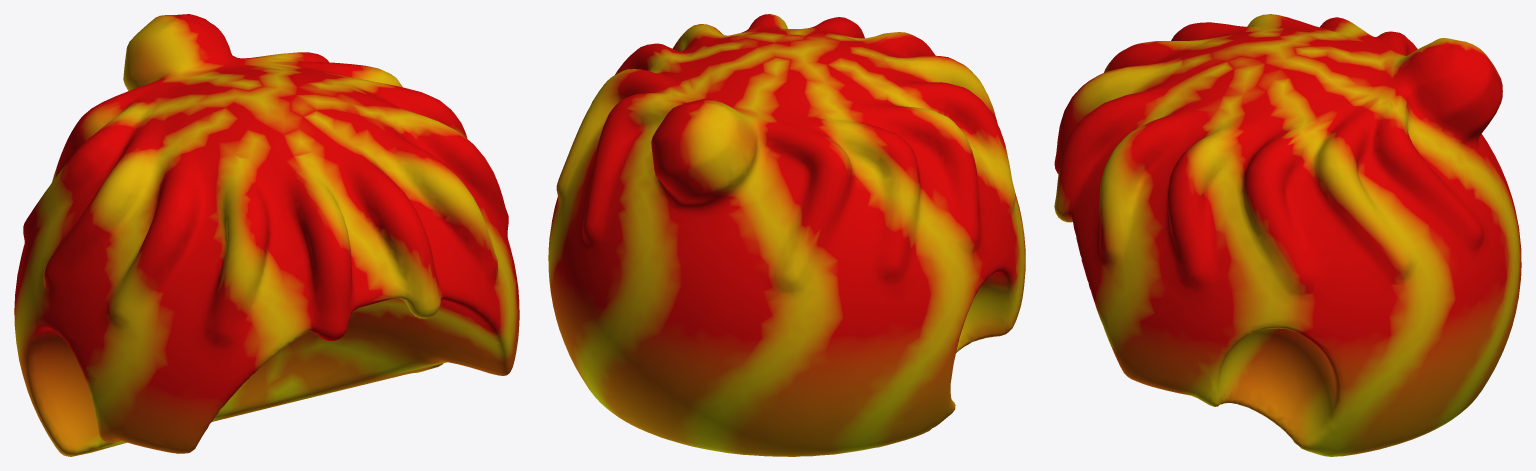
The model's file is man-bun.glb.
3 views of the same model, side by side, from view 1: azimuth 30°, elevation 25°; view 2: azimuth 150°, elevation 25°; view 3: azimuth 270°, elevation 25° (orthographic). The views are drawn at different scales.
Visible parts, largest first — view 1: part; view 2: part; view 3: part.
Boxes of the visible parts, left/top/right/bottom form: part: left=14, top=14, right=519, bottom=456; part: left=548, top=14, right=1025, bottom=456; part: left=1054, top=14, right=1521, bottom=456.
Bounding box in the file's own units: 2.08 × 1.64 × 2.06.
